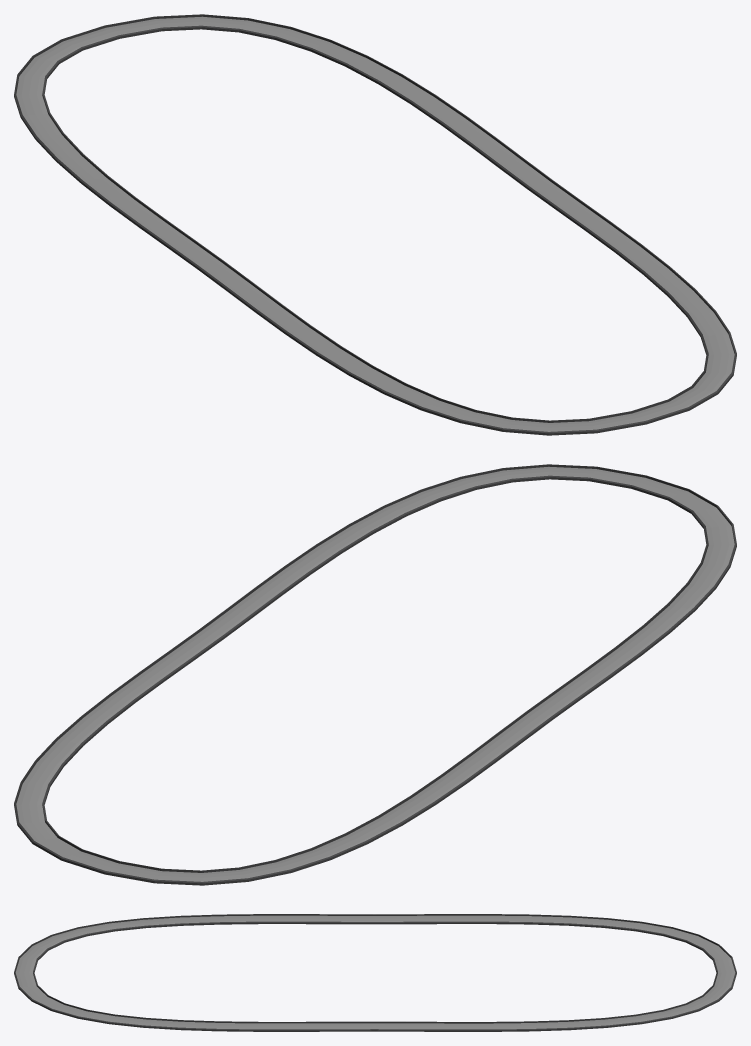
The model's file is Track.fbx.
3 renders of one model, top to bottom at view 1: azimuth 30°, elevation 25°; view 2: azimuth 150°, elevation 25°; view 3: azimuth 270°, elevation 25°, orthographic. The views are drawn at different scales.
Visible parts, largest first — view 1: Track p_2, Track p_5, Track p_3, Track p_6, Track p_1, Track p_4; view 2: Track p_3, Track p_6, Track p_2, Track p_5, Track p_4, Track p_1; view 3: Track p_2, Track p_3, Track p_6, Track p_5, Track p_1, Track p_4.
Part boxes in pixels (bbox=[...]): Track p_2: bbox=[105, 14, 466, 124]; Track p_5: bbox=[284, 325, 646, 435]; Track p_3: bbox=[14, 25, 135, 205]; Track p_6: bbox=[615, 244, 736, 424]; Track p_1: bbox=[441, 116, 641, 252]; Track p_4: bbox=[109, 197, 309, 333]; Track p_3: bbox=[104, 774, 467, 885]; Track p_6: bbox=[285, 464, 645, 574]; Track p_2: bbox=[14, 694, 136, 874]; Track p_5: bbox=[616, 475, 736, 654]; Track p_4: bbox=[441, 647, 641, 782]; Track p_1: bbox=[110, 566, 310, 701]; Track p_2: bbox=[491, 972, 736, 1031]; Track p_3: bbox=[491, 914, 736, 973]; Track p_6: bbox=[14, 972, 258, 1031]; Track p_5: bbox=[14, 914, 258, 973]; Track p_1: bbox=[258, 1021, 491, 1031]; Track p_4: bbox=[258, 914, 491, 924].
Size of the model in its own units: 35.11 by 0.3896 by 92.12.
